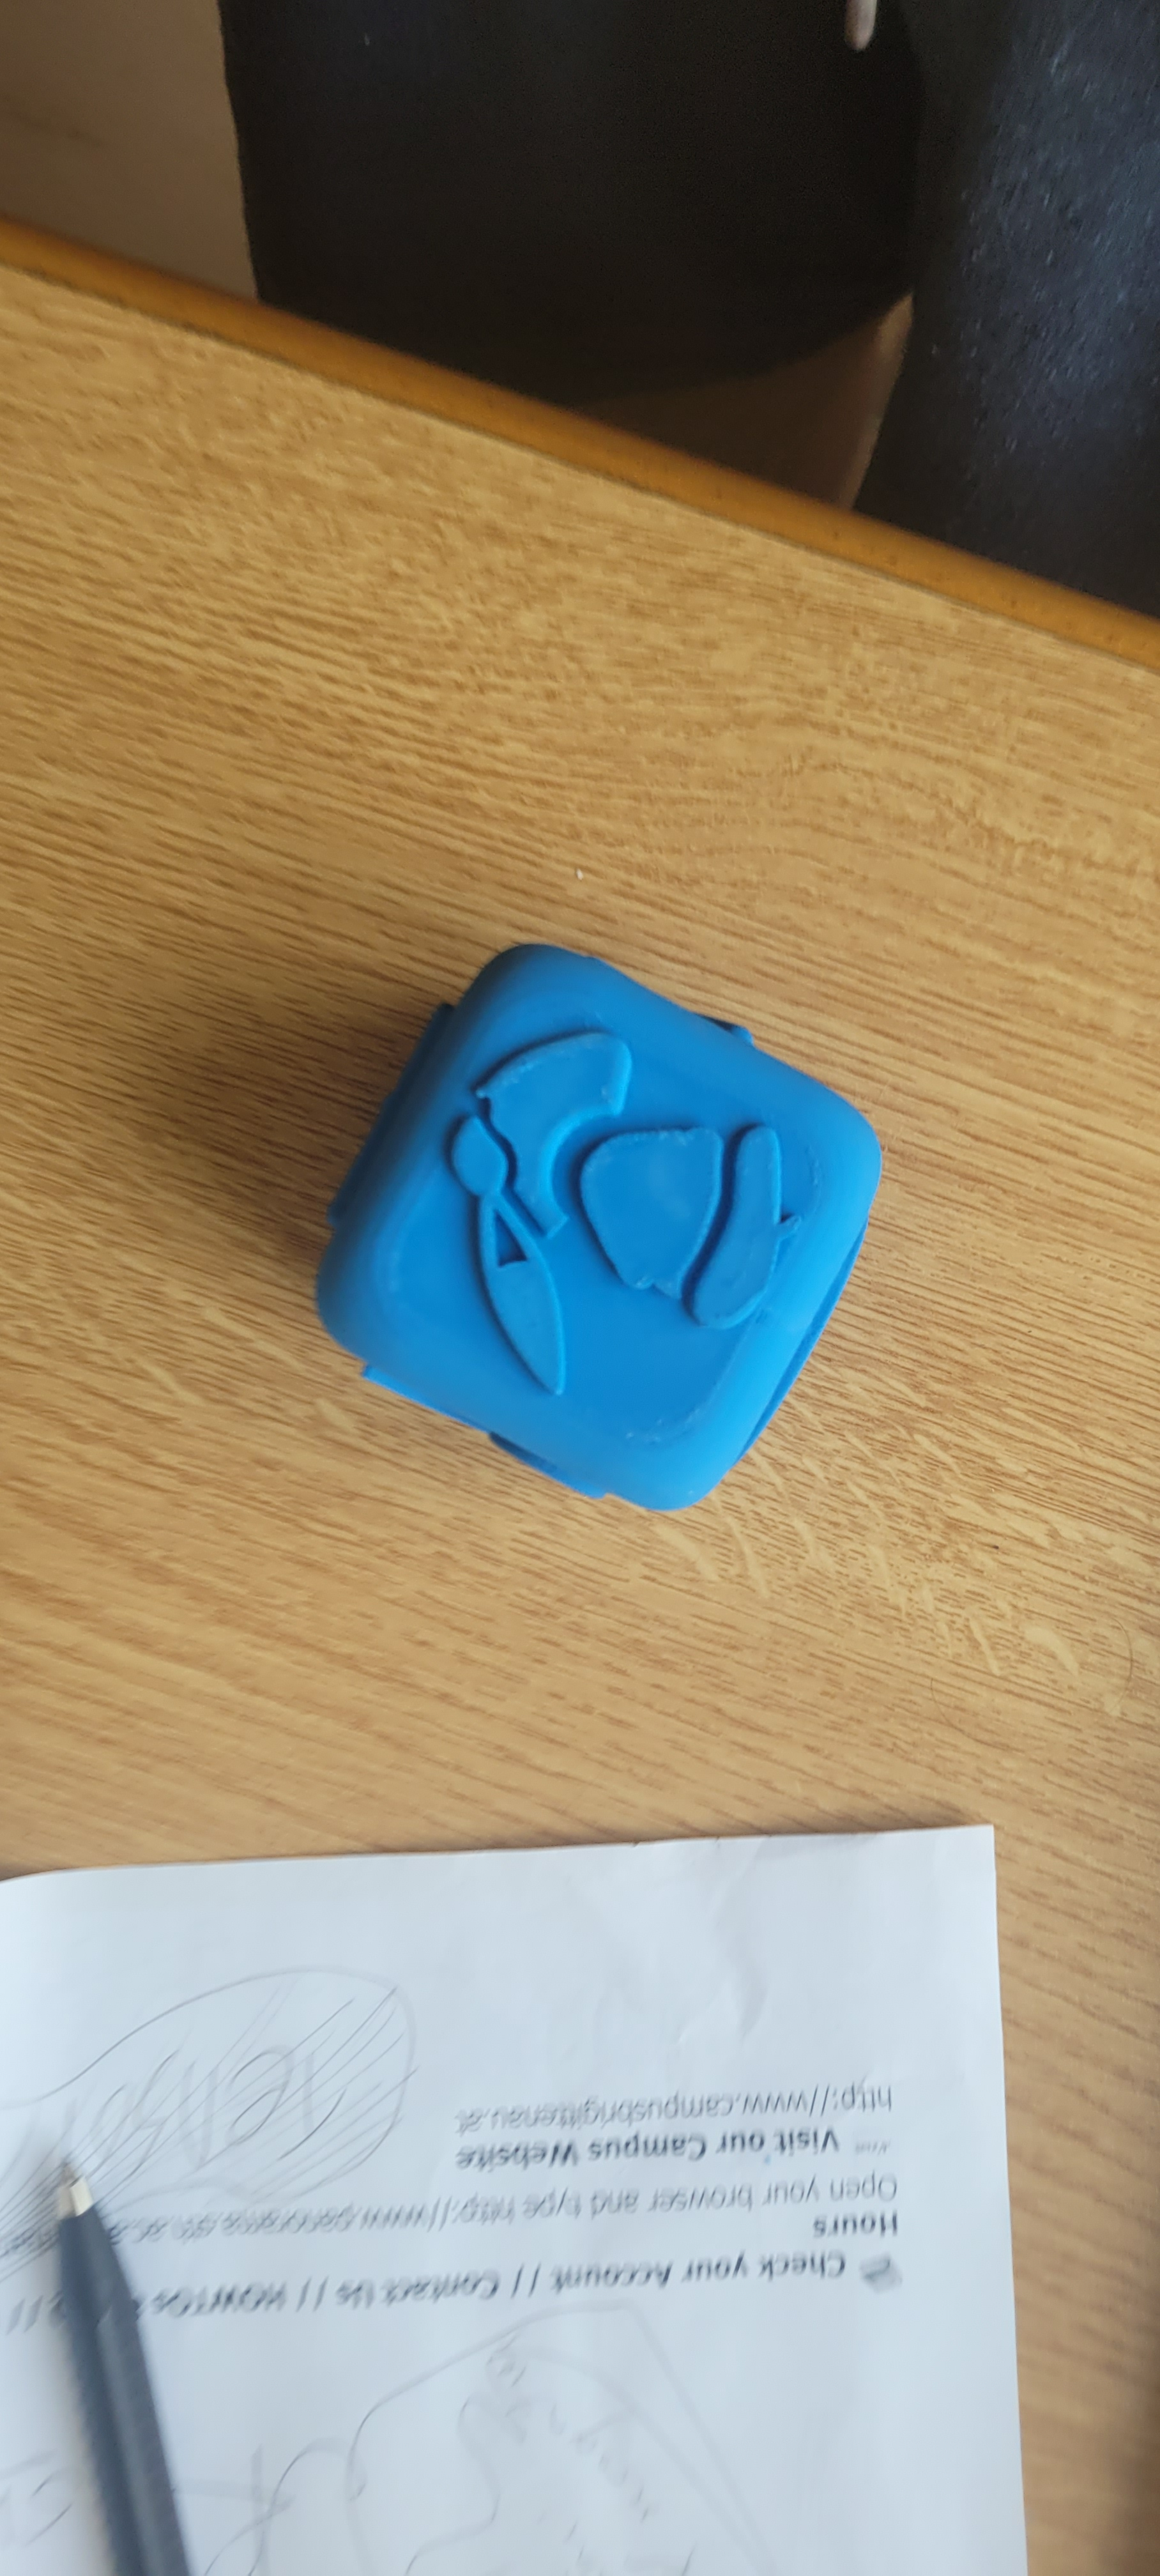Artist_Info: (396, 884, 822, 1556)
